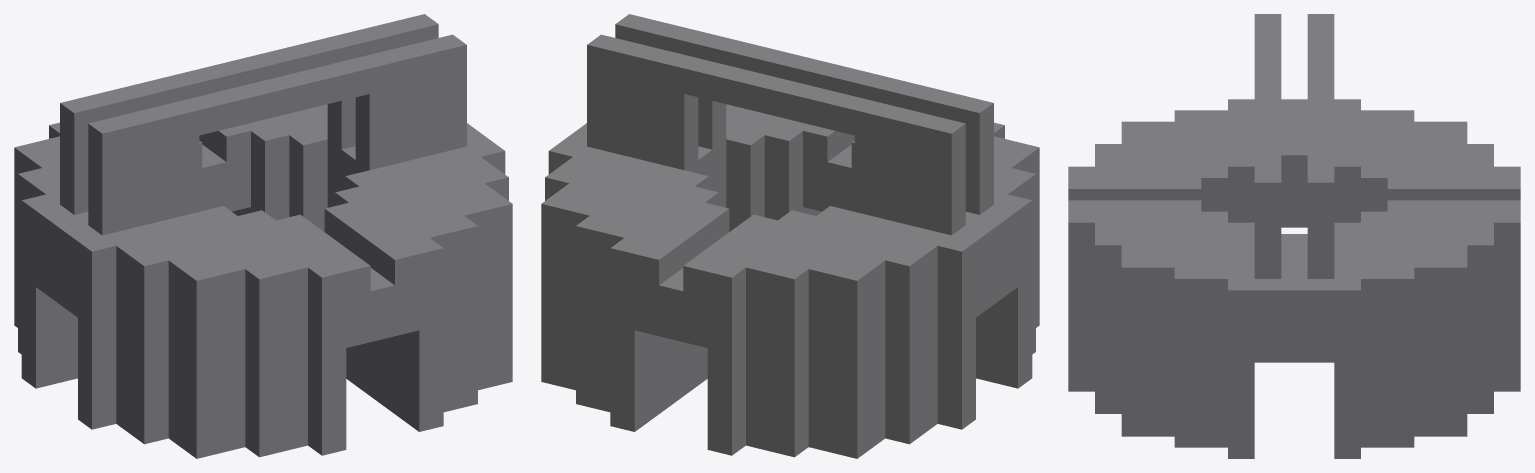
Rendered from building1.obj.
3 renders of one model, left to right at view 1: azimuth 30°, elevation 25°; view 2: azimuth 150°, elevation 25°; view 3: azimuth 270°, elevation 25°, orthographic. The views are drawn at different scales.
Bounding box in the file's own units: 17 × 11 × 17.
1 material, 1 textured.
